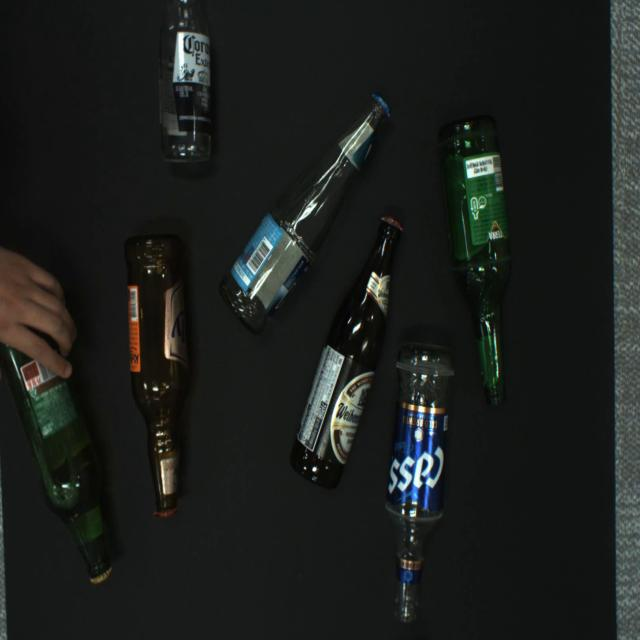beer-bottle: (219, 93, 391, 336), (289, 216, 403, 490), (0, 344, 112, 585), (437, 117, 513, 409), (386, 341, 455, 624), (125, 233, 190, 519), (158, 0, 210, 163)
